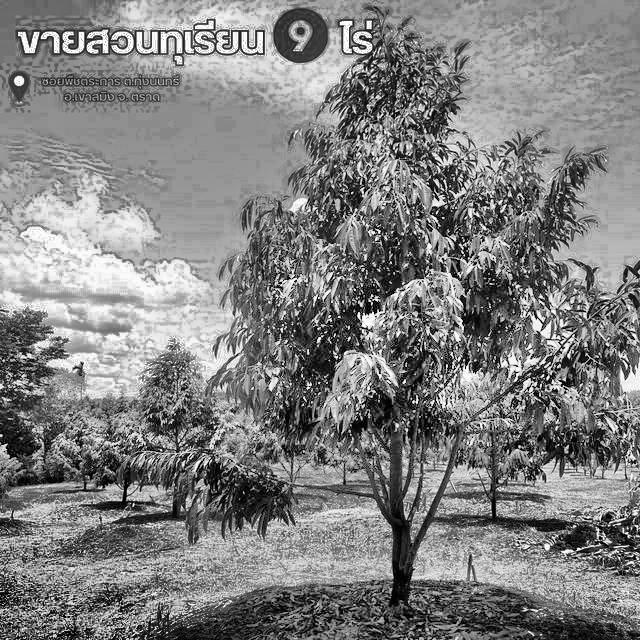arvore: (360, 360, 435, 620)
